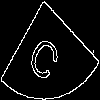C: (25, 25, 68, 86)
